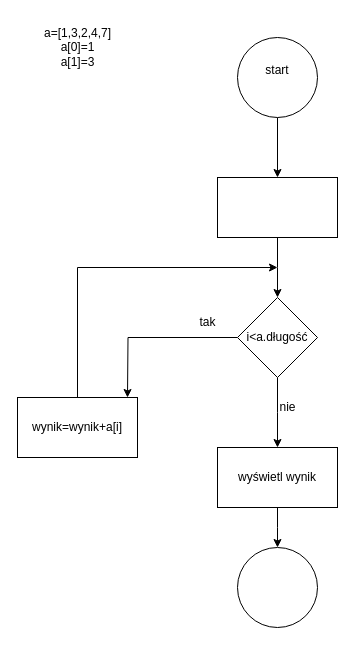
Image size: 355x645. Some labels were removed from this diagram. The shapes that lost their labels are listed below. From the top down, each one's centre as x and y in pixels, then its label:
At (x=277, y=207): "podaj a wynik=0 i=0".
At (x=277, y=587): "stop".
